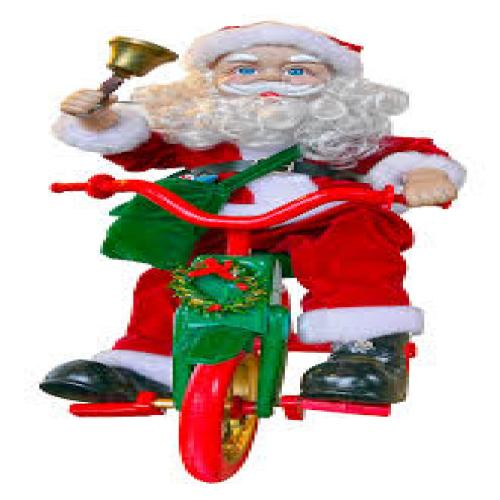Santa: (37, 20, 466, 402)
